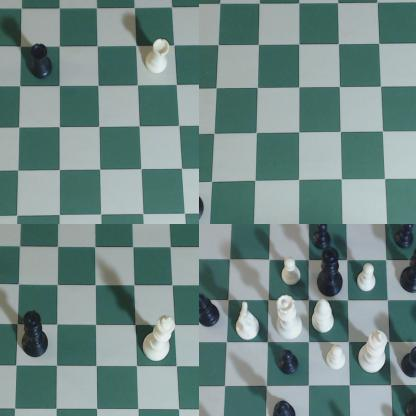black-bishop: (200, 293, 222, 330), (273, 397, 299, 416)
black-king: (23, 302, 56, 359), (321, 246, 344, 299)
black-pawn: (280, 350, 305, 382), (389, 225, 416, 252), (308, 225, 334, 250)
black-queen: (404, 247, 416, 299)
black-rook: (30, 42, 54, 81), (400, 344, 416, 382), (402, 392, 416, 416)
white-bishop: (312, 300, 338, 337)
white-king: (144, 313, 176, 365), (360, 335, 390, 375)
white-knight: (232, 301, 263, 342)
white-pawn: (355, 262, 382, 299), (279, 253, 303, 287), (325, 347, 351, 377)
white-queen: (275, 296, 304, 340)
white-rook: (145, 35, 172, 79)
